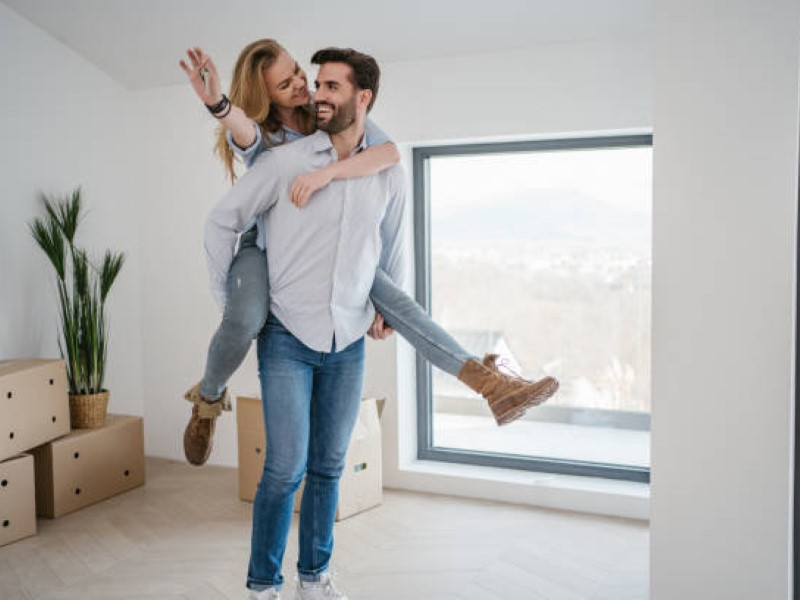key: (198, 67, 211, 97)
